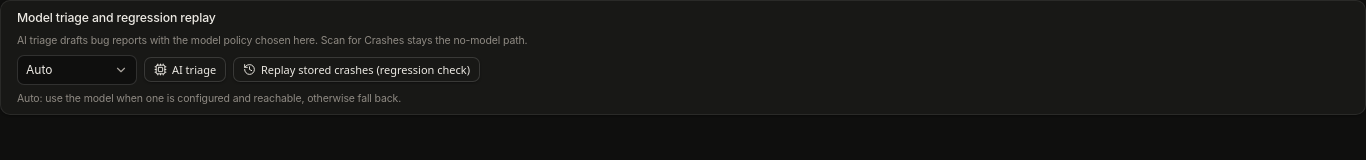
Test: runs AI triage with the chosen model policy and reloads the queue
The width and height of the screenshot is (1366, 160).
Select "Require model" in the dropdown named "Model policy": coordinates (77, 70) [17,54,137,84]
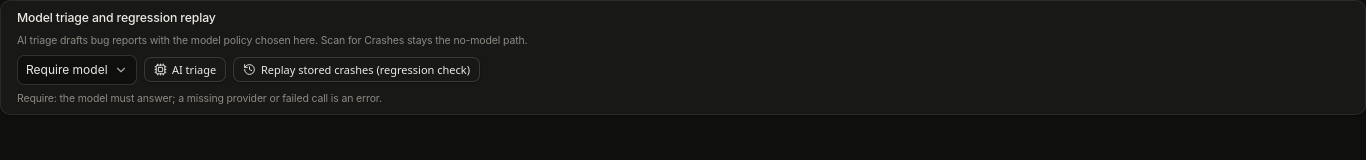
Click the button "AI triage": coordinates (185, 70) [144,57,226,82]
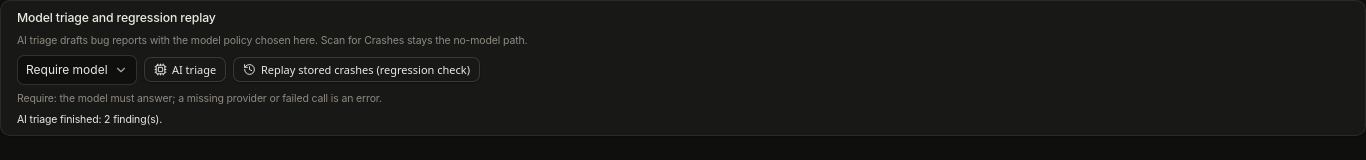
Check: the text "AI triage finished: 2 finding(s)." is shown, box [17,112,162,126]
